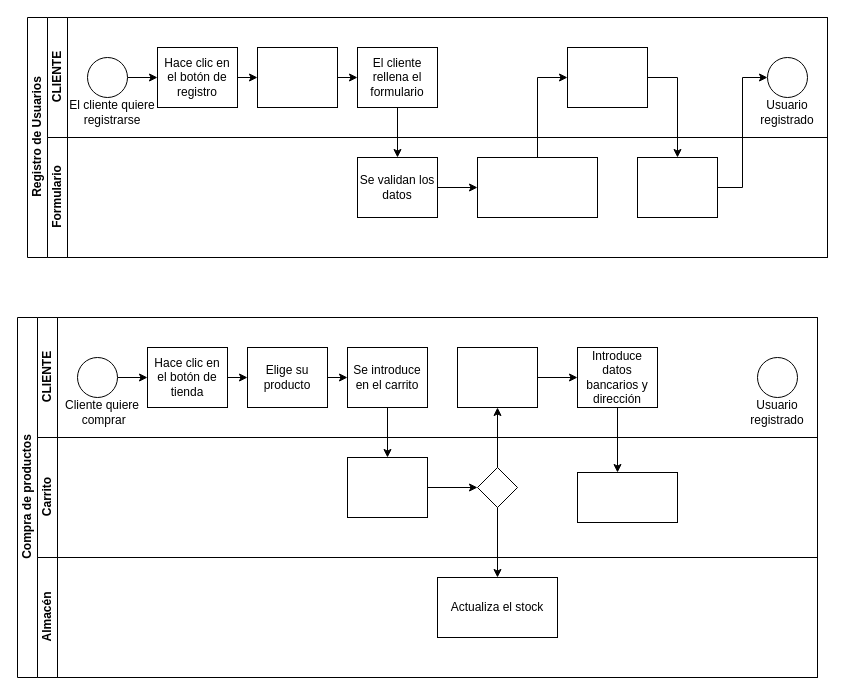
Image size: 845x695. Some labels were removed from this diagram. The centre of each missing label's shape, as x and y in pixels:
"El cliente acepta la confirmación" belongs at [607,77].
"Manda correo de confirmación de pedido" belongs at [627,497].
"Notifica al cliente si hay stock" belongs at [497,377].
"Revisa el stock" belongs at [387,487].
"Se dirige al cliente a la página del registro" belongs at [297,77].
"Se envía un email de confirmación" belongs at [537,187].
"Se guarda al cliente" belongs at [677,187].
